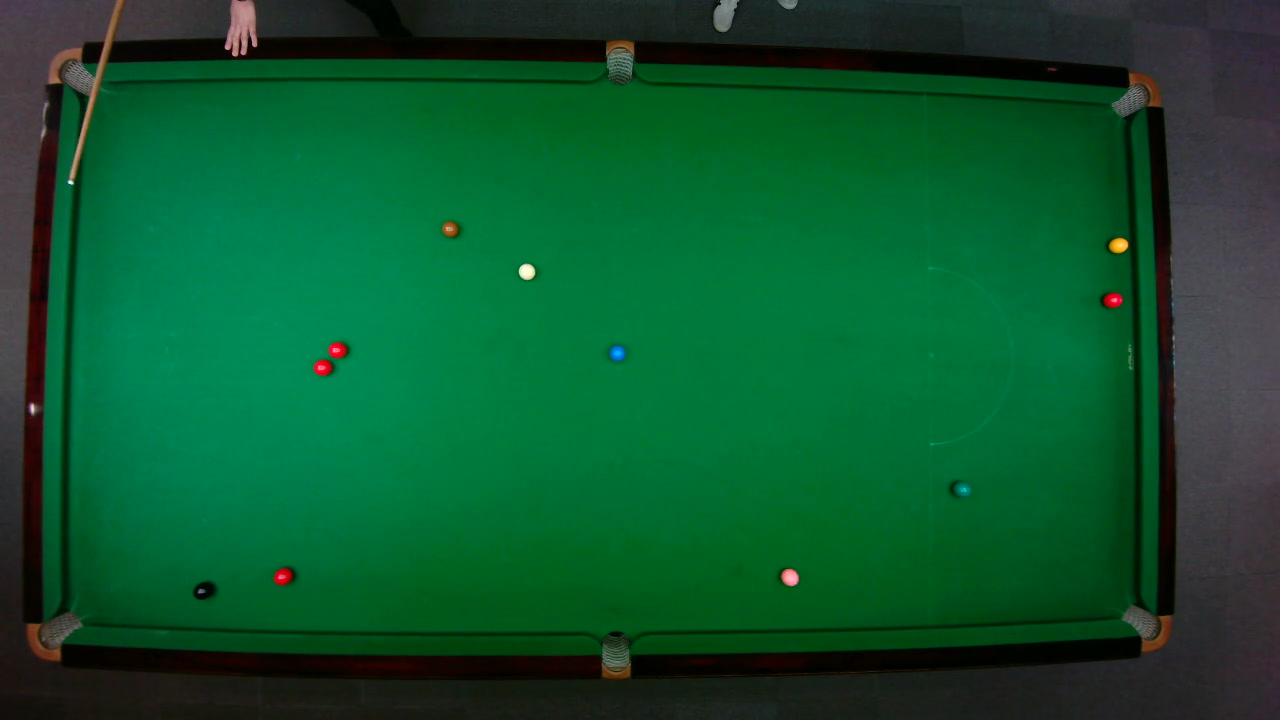bag: (24, 609, 84, 661), (45, 46, 101, 95), (1119, 603, 1172, 652), (1108, 71, 1161, 118), (600, 629, 630, 680), (605, 38, 633, 85)
black: (192, 581, 213, 600)
blue: (608, 344, 625, 361)
brown: (440, 220, 458, 237)
cue: (65, 0, 123, 187)
green: (950, 480, 972, 497)
pink: (779, 566, 800, 586)
red: (271, 566, 294, 585), (326, 340, 347, 359), (311, 358, 333, 376), (1101, 291, 1123, 308)
white: (516, 262, 536, 280)
yellow: (1107, 236, 1129, 253)
zone: (926, 266, 1013, 445)
